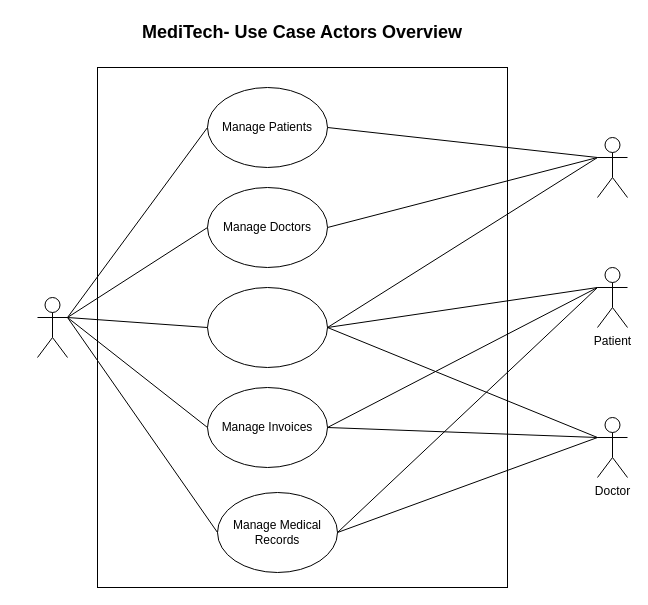
Some shapes in this 648 by 605 pixel diagram are drawn without their labels. Here are the shapes that lost their labels. From the top down, the box of each, then its label:
(596, 136, 628, 198): Staff
(36, 296, 68, 358): Administrator
(206, 286, 328, 368): Manage Appointments
